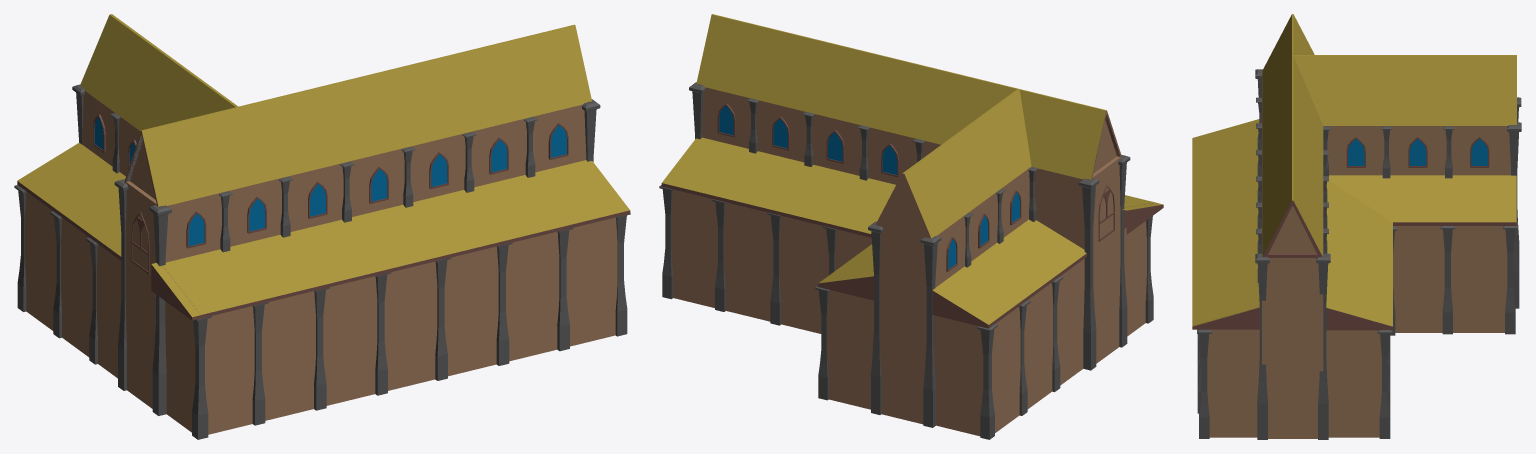
The model's file is Church_Body.fbx.
3 renders of one model, left to right at view 1: azimuth 30°, elevation 25°; view 2: azimuth 150°, elevation 25°; view 3: azimuth 270°, elevation 25°, orthographic. The views are drawn at different scales.
Parts seen in each view (by area): view 1: LOD_Church, Intact_Piece_07, Intact_Piece_03, Intact_Piece_04, Intact_Piece_06, Intact_Piece_05, Intact_Piece_02, Intact_Piece_01, Intact_Piece_10, Intact_Piece_12, Intact_Piece_13, Intact_Piece_09 (+7 smaller); view 2: LOD_Church, Intact_Piece_16, Intact_Piece_14, Intact_Piece_10, Intact_Piece_08, Intact_Piece_15, Intact_Piece_13, Intact_Piece_09, Intact_Piece_11, polySurface56, polySurface49, Intact_Piece_12 (+14 smaller); view 3: LOD_Church, Intact_Piece_12, Intact_Piece_11, Intact_Piece_16, Intact_Piece_01, Intact_Piece_13, Intact_Piece_07, polySurface49, Intact_Piece_14, Intact_Piece_03, Intact_Piece_05, Intact_Piece_06 (+28 smaller).
Boxes of the visible parts, x1,y1,x2,y2 form: LOD_Church: (17, 14, 630, 434); Intact_Piece_07: (131, 107, 268, 439); Intact_Piece_03: (407, 132, 512, 365); Intact_Piece_04: (346, 147, 451, 380); Intact_Piece_06: (225, 177, 329, 410); Intact_Piece_05: (287, 162, 391, 395); Intact_Piece_02: (467, 117, 573, 351); Intact_Piece_01: (528, 99, 630, 336); Intact_Piece_10: (14, 84, 120, 338); Intact_Piece_12: (118, 42, 236, 130); Intact_Piece_13: (236, 70, 402, 182); Intact_Piece_09: (55, 115, 140, 364); LOD_Church: (661, 14, 1163, 436); Intact_Piece_16: (663, 14, 770, 311); Intact_Piece_14: (796, 43, 880, 257); Intact_Piece_10: (920, 212, 1030, 439); Intact_Piece_08: (1000, 166, 1099, 370); Intact_Piece_15: (719, 29, 824, 325); Intact_Piece_13: (830, 55, 1019, 236); Intact_Piece_09: (967, 189, 1063, 391); Intact_Piece_11: (816, 148, 966, 414); polySurface56: (871, 56, 935, 115); polySurface49: (875, 172, 966, 237); Intact_Piece_12: (864, 89, 1030, 254); LOD_Church: (1192, 14, 1516, 438); Intact_Piece_12: (1294, 55, 1454, 332); Intact_Piece_11: (1445, 55, 1521, 332); Intact_Piece_16: (1263, 174, 1392, 439); Intact_Piece_01: (1192, 230, 1269, 439); Intact_Piece_13: (1262, 55, 1392, 246); Intact_Piece_07: (1192, 17, 1293, 167); polySurface49: (1449, 71, 1516, 125); Intact_Piece_14: (1268, 121, 1392, 360); Intact_Piece_03: (1192, 178, 1262, 364); Intact_Piece_05: (1192, 126, 1262, 220); Intact_Piece_06: (1192, 101, 1262, 194).
Size of the model in its own units: 21.93 by 12.75 by 15.96.
